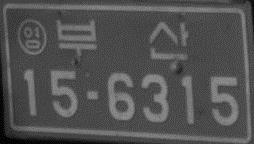-: (83, 89, 101, 101)
1: (177, 74, 198, 126), (20, 68, 40, 117)
3: (139, 72, 170, 124)
5: (207, 73, 240, 128), (48, 67, 79, 118)
6: (106, 72, 136, 120)
부산_D: (54, 16, 189, 63)
영: (16, 17, 47, 56)
